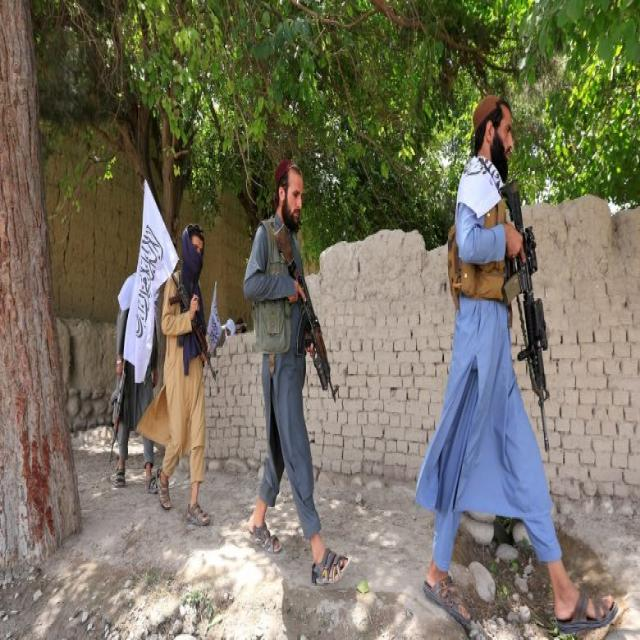Militant: (416, 101, 636, 638), (243, 131, 358, 585), (157, 211, 223, 531), (110, 225, 160, 500)
